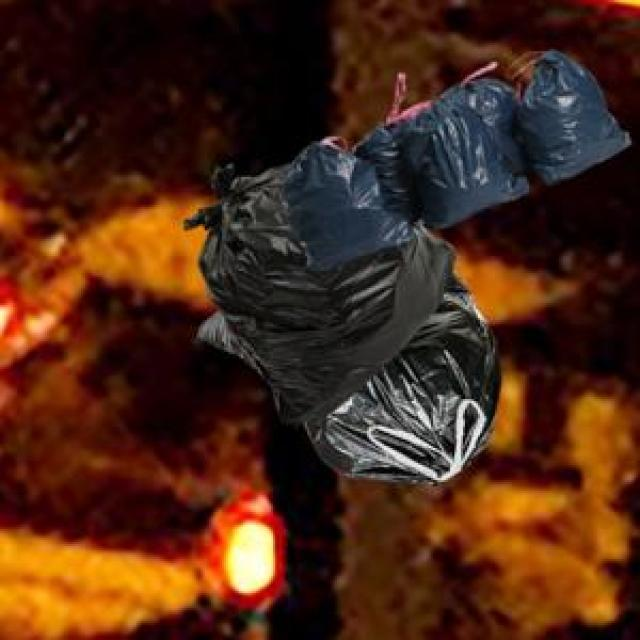Vinyl: (202, 138, 470, 466), (371, 76, 534, 222), (512, 48, 630, 190)
